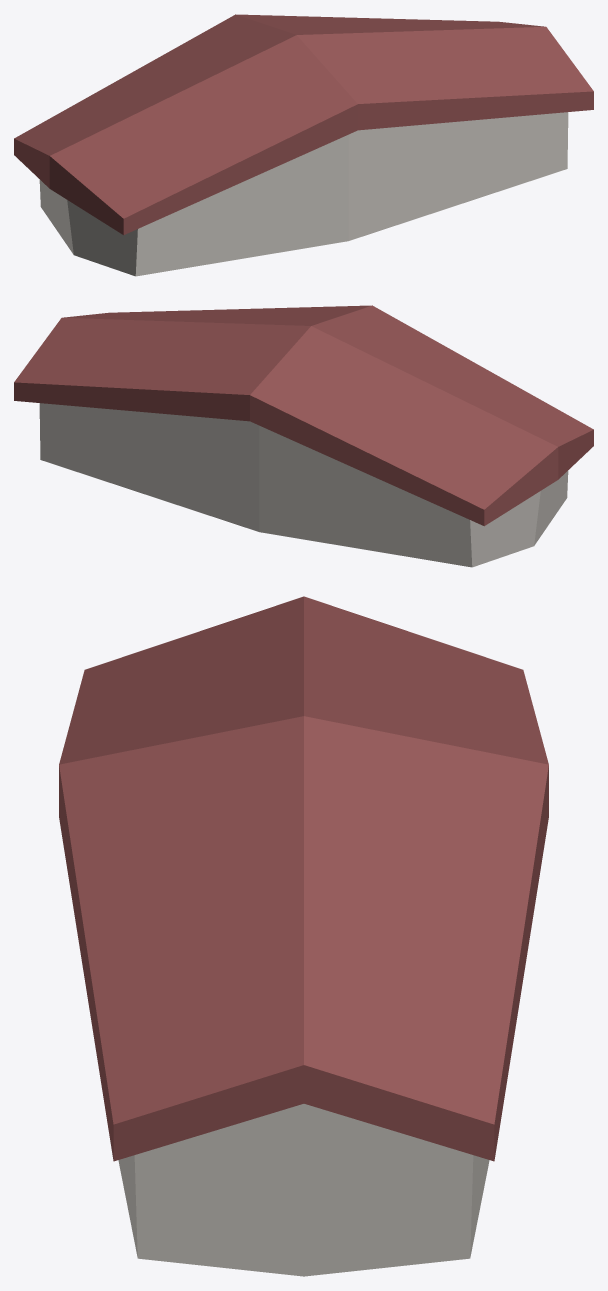
File: niguiriTuna.fbx
The picture shows the model from 3 angles, top to bottom: view 1: azimuth 30°, elevation 25°; view 2: azimuth 150°, elevation 25°; view 3: azimuth 270°, elevation 25°; orthographic projection. The views are drawn at different scales.
Visible parts, largest first — view 1: niguiriTuna; view 2: niguiriTuna; view 3: niguiriTuna.
Part boxes in pixels (left/top/right/bottom): niguiriTuna: left=14, top=14, right=593, bottom=276; niguiriTuna: left=14, top=305, right=593, bottom=567; niguiriTuna: left=59, top=596, right=548, bottom=1276.
Bounding box in the file's own units: 13.43 × 4.35 × 5.74.
1 material, 1 textured.
